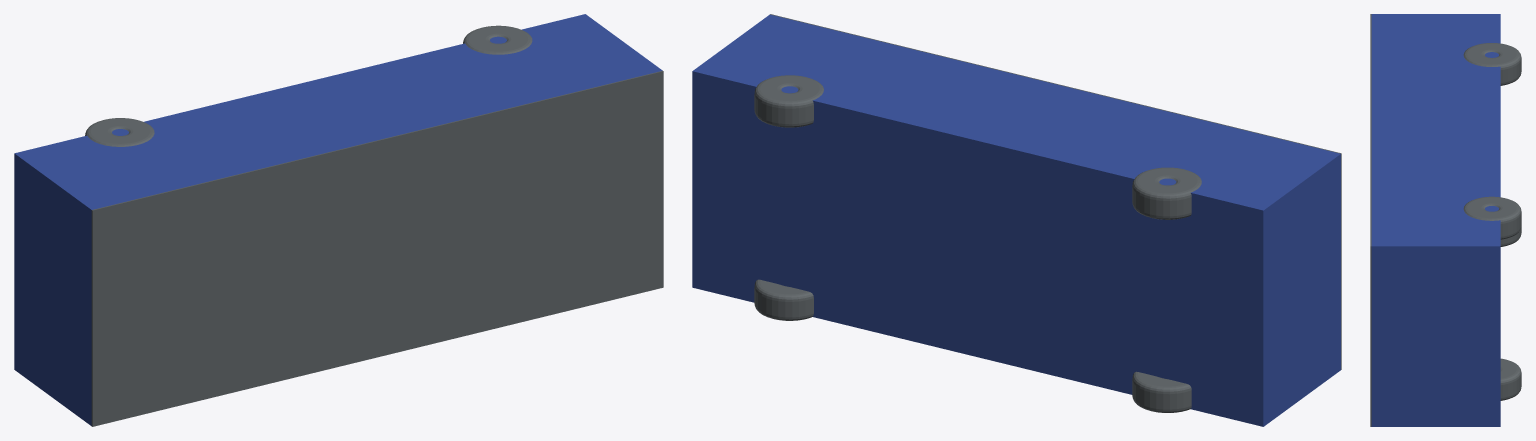
The model's file is tinker.obj.
3 views of the same model, side by side, from view 1: azimuth 30°, elevation 25°; view 2: azimuth 150°, elevation 25°; view 3: azimuth 270°, elevation 25° (orthographic). The views are drawn at different scales.
Visible parts, largest first — view 1: group_0_6383466, group_0_3888547; view 2: group_0_3888547, group_0_6383466; view 3: group_0_3888547, group_0_6383466.
Part boxes in pixels (x1,y1,x2,y2): group_0_6383466: (85, 25, 663, 426); group_0_3888547: (14, 14, 662, 425); group_0_3888547: (692, 14, 1340, 426); group_0_6383466: (754, 14, 1341, 412); group_0_3888547: (1371, 14, 1500, 426); group_0_6383466: (1370, 14, 1521, 426).
Size of the model in its own units: 464 by 170 by 128.
